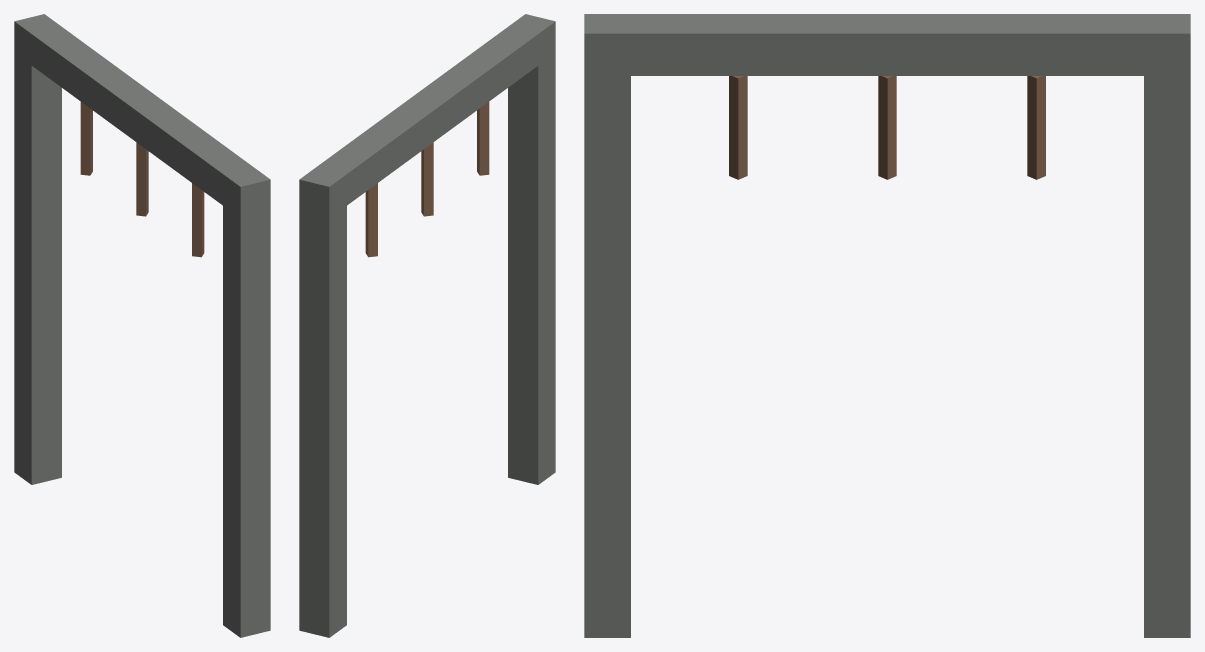
The model's file is SM_Prop_power_gantry_0_LOD2.glb.
3 views of the same model, side by side, from view 1: azimuth 30°, elevation 25°; view 2: azimuth 150°, elevation 25°; view 3: azimuth 270°, elevation 25° (orthographic). The views are drawn at different scales.
Parts seen in each view (by area): view 1: SM_Prop_power_gantry_0_LOD2; view 2: SM_Prop_power_gantry_0_LOD2; view 3: SM_Prop_power_gantry_0_LOD2.
Boxes of the visible parts, <box> form: SM_Prop_power_gantry_0_LOD2: <box>14,14,270,637</box>; SM_Prop_power_gantry_0_LOD2: <box>299,14,555,637</box>; SM_Prop_power_gantry_0_LOD2: <box>584,14,1190,637</box>.
Size of the model in its own units: 0.5 by 7.15 by 6.5.
